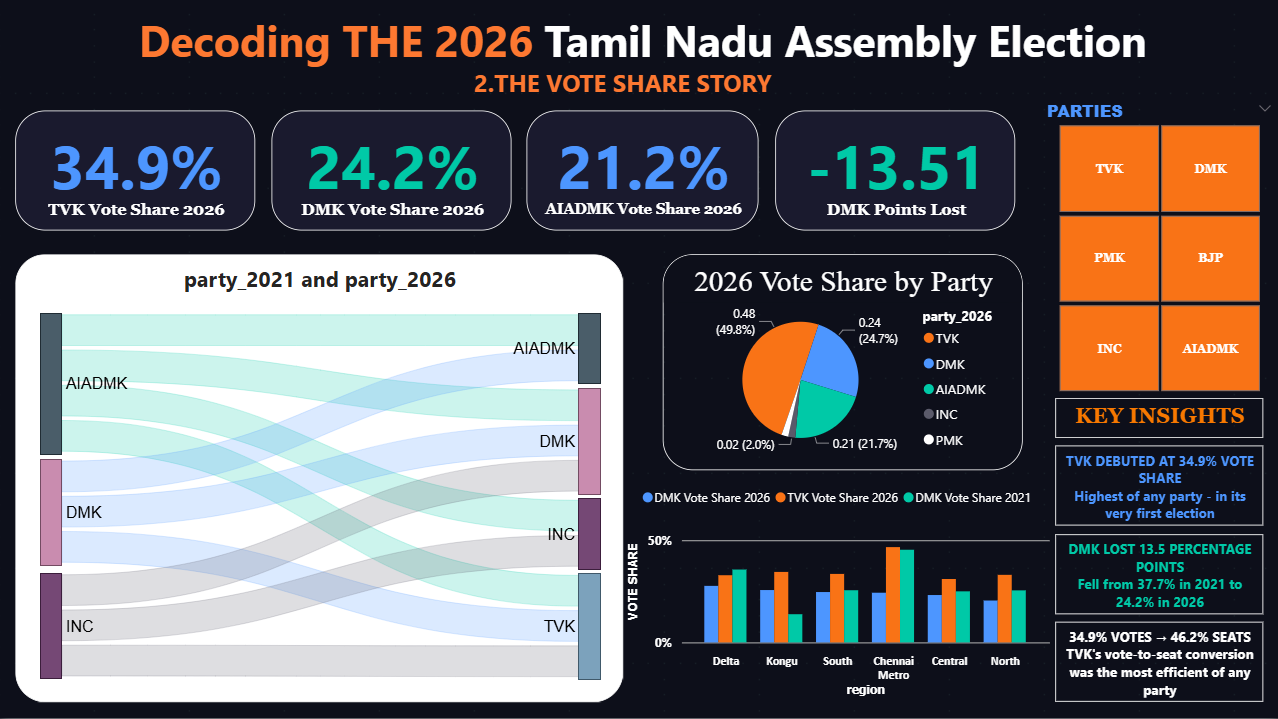

The dashboard page shown, as its layout file describes it:
{"tool":"powerbi","page":{"name":"STORY 2","canvas":[1280,720],"ordinal":1},"visuals":[{"type":"card","fields":{"Values":["tn_2021_results.DMK Points Lost True"]},"box":[776,112,240,120],"z":0},{"type":"card","fields":{"Values":["tn_2026_results.DMK Vote Share True 2026"]},"box":[272,112,240,120],"z":1000},{"type":"textbox","box":[104,8,1080,88],"z":2000},{"type":"clusteredColumnChart","title":"Where Seats Changed Hands","fields":{"Y":["tn_2026_results.DMK Vote Share 2026","tn_2026_results.TVK Vote Share 2026","tn_election_constituency_summary (3).DMK Vote Share 2021"],"Category":["tn_election_constituency_summary (3).region"]},"box":[624,480,432,224],"z":3000},{"type":"textbox","box":[1056,400,208,40],"z":4000},{"type":"textbox","box":[1056,448,208,80],"z":5000},{"type":"textbox","box":[1056,536,208,80],"z":6000},{"type":"textbox","box":[1056,624,208,80],"z":7000},{"type":"slicer","fields":{"Values":["tn_election_constituency_summary (3).party_2026"]},"box":[1040,96,240,304],"z":8000},{"type":"textbox","box":[32,536,56,32],"z":9000},{"type":"textbox","box":[32,408,56,32],"z":10000},{"type":"textbox","box":[464,64,320,64],"z":11000},{"type":"card","fields":{"Values":["tn_2026_results.TVK Vote Share 2026"]},"box":[16,112,240,120],"z":12000},{"type":"card","fields":{"Values":["tn_2026_results.AIADMK Vote Share 2026"]},"box":[528,112,232,120],"z":13000},{"type":"SankeyDiagram1446463184954","fields":{"Source":["tn_election_constituency_summary (3).party_2021"],"Destination":["tn_election_constituency_summary (3).party_2026"]},"box":[16,256,608,448],"z":14000},{"type":"pieChart","title":"2026 Vote Share by Party","fields":{"Category":["tn_election_constituency_summary (3).party_2026"],"Y":["tn_election_constituency_summary (3).Vote Share 2026"]},"box":[664,256,360,216],"z":15000}]}

Visuals, with their boxes in screenshot pixels (x1, y1, x2, y2), scaled from the page's 1280x720 canvas onto the 1278x719 screenshot:
card - tn_2021_results.DMK Points Lost True: l=775, t=112, r=1014, b=232
card - tn_2026_results.DMK Vote Share True 2026: l=272, t=112, r=511, b=232
textbox: l=104, t=8, r=1182, b=96
"Where Seats Changed Hands" clusteredColumnChart: l=623, t=479, r=1054, b=703
textbox: l=1054, t=399, r=1262, b=439
textbox: l=1054, t=447, r=1262, b=527
textbox: l=1054, t=535, r=1262, b=615
textbox: l=1054, t=623, r=1262, b=703
slicer - tn_election_constituency_summary (3).party_2026: l=1038, t=96, r=1277, b=399
textbox: l=32, t=535, r=88, b=567
textbox: l=32, t=407, r=88, b=439
textbox: l=463, t=64, r=783, b=128
card - tn_2026_results.TVK Vote Share 2026: l=16, t=112, r=256, b=232
card - tn_2026_results.AIADMK Vote Share 2026: l=527, t=112, r=759, b=232
SankeyDiagram1446463184954 - tn_election_constituency_summary (3).party_2021 x tn_election_constituency_summary (3).party_2026: l=16, t=256, r=623, b=703
"2026 Vote Share by Party" pieChart: l=663, t=256, r=1022, b=471
